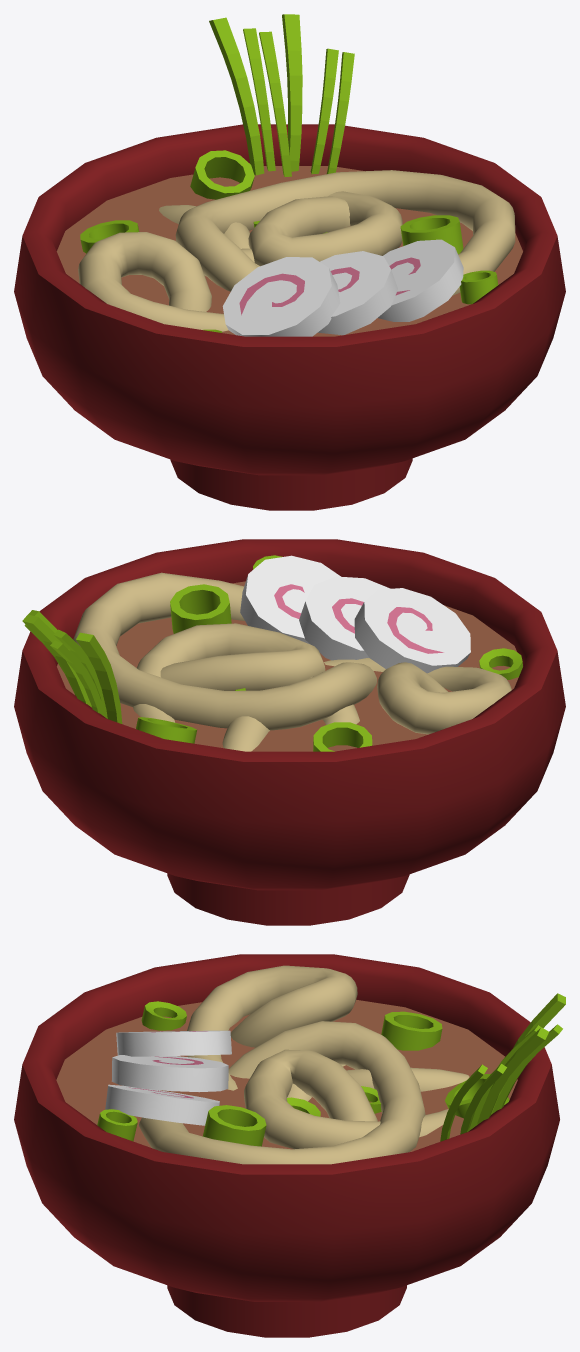
The model's file is udon.glb.
The picture shows the model from 3 angles, top to bottom: view 1: azimuth 30°, elevation 25°; view 2: azimuth 150°, elevation 25°; view 3: azimuth 270°, elevation 25°; orthographic projection.
Visible parts, largest first — view 1: Food_Udon; view 2: Food_Udon; view 3: Food_Udon.
Boxes of the visible parts, left/top/right/bottom form: Food_Udon: left=14, top=14, right=565, bottom=510; Food_Udon: left=14, top=539, right=565, bottom=925; Food_Udon: left=14, top=954, right=565, bottom=1337.
Bounding box in the file's own units: 0.9731 × 0.6442 × 0.9986.
1 material, 1 textured.
